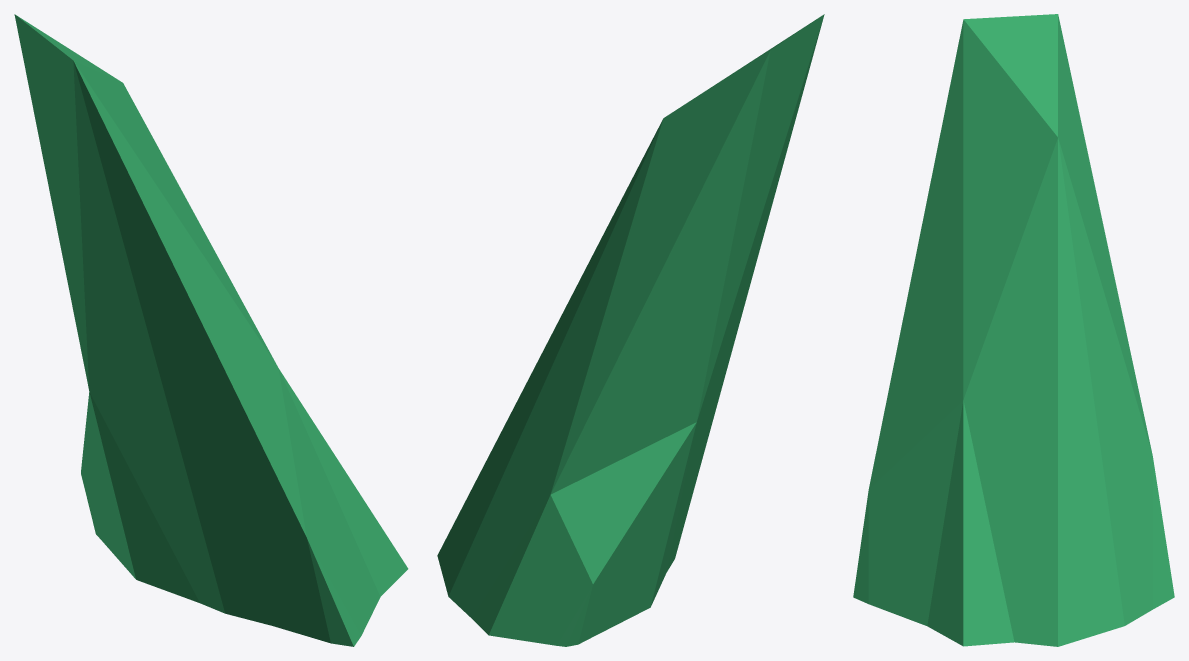
Rendered from Rock_Medium_Gem_Jade_Emerald_Spike_04.FBX.
3 views of the same model, side by side, from view 1: azimuth 30°, elevation 25°; view 2: azimuth 150°, elevation 25°; view 3: azimuth 270°, elevation 25° (orthographic). The views are drawn at different scales.
Visible parts, largest first — view 1: Rock_Medium_Gem_Jade_Emerald_Spike_04; view 2: Rock_Medium_Gem_Jade_Emerald_Spike_04; view 3: Rock_Medium_Gem_Jade_Emerald_Spike_04.
Part boxes in pixels (x1,y1,x2,y2): Rock_Medium_Gem_Jade_Emerald_Spike_04: [14, 14, 408, 646]; Rock_Medium_Gem_Jade_Emerald_Spike_04: [437, 14, 824, 646]; Rock_Medium_Gem_Jade_Emerald_Spike_04: [853, 14, 1174, 646].
Size of the model in its own units: 2766 by 4653 by 2736.
